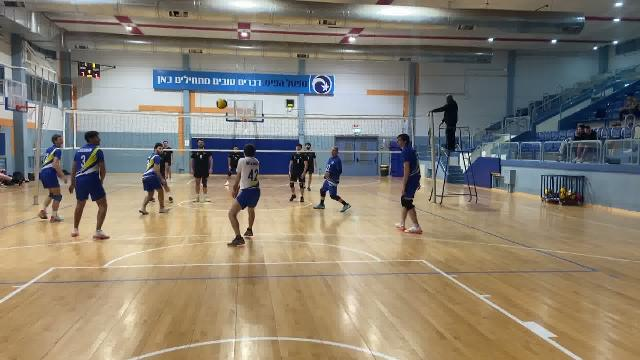ball: (213, 98, 229, 111)
